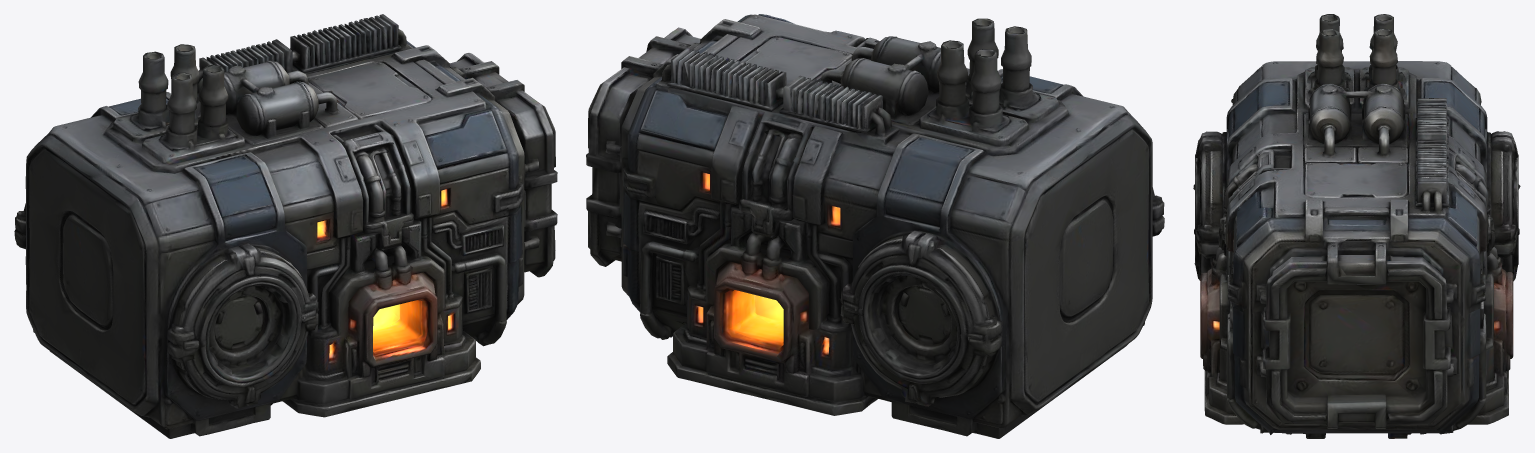
The model's file is gyar.glb.
The picture shows the model from 3 angles, left to right: view 1: azimuth 30°, elevation 25°; view 2: azimuth 150°, elevation 25°; view 3: azimuth 270°, elevation 25°; orthographic projection. The views are drawn at different scales.
Visible parts, largest first — view 1: gyar_node; view 2: gyar_node; view 3: gyar_node.
Boxes of the visible parts, x1,y1,x2,y2 form: gyar_node: (14,14,557,438); gyar_node: (586,14,1164,438); gyar_node: (1193,14,1520,438).
Size of the model in its own units: 0.9809 by 0.6926 by 0.6895.
Materials: 1 (1 with a texture image).
